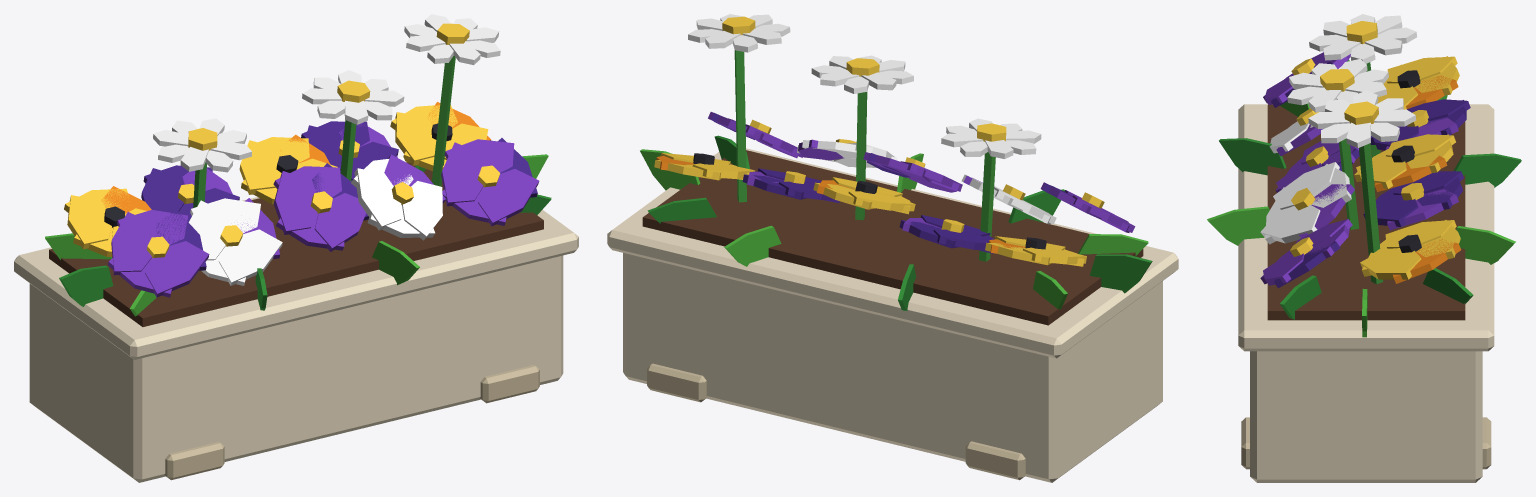
The model's file is flower-box-1x1.glb.
3 views of the same model, side by side, from view 1: azimuth 30°, elevation 25°; view 2: azimuth 150°, elevation 25°; view 3: azimuth 270°, elevation 25° (orthographic). The views are drawn at different scales.
Parts seen in each view (by area): view 1: flower-box-1x1; view 2: flower-box-1x1; view 3: flower-box-1x1.
Boxes of the visible parts, bbox=[...] form: flower-box-1x1: bbox=[14, 14, 578, 482]; flower-box-1x1: bbox=[607, 14, 1178, 482]; flower-box-1x1: bbox=[1207, 14, 1521, 482].
Size of the model in its own units: 0.9 by 0.5693 by 0.4689.
1 material, 1 textured.
